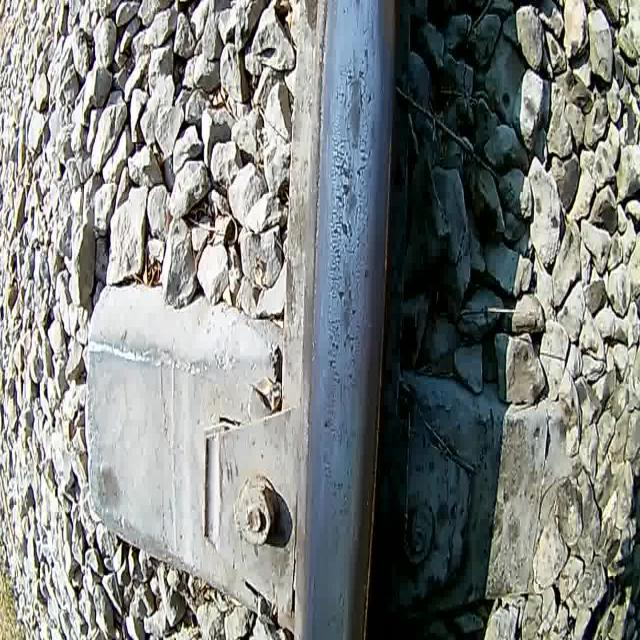Cracks: (355, 41, 372, 116)
Spallings: (333, 155, 354, 242)
Squats: (324, 254, 373, 403), (328, 150, 372, 256), (334, 45, 376, 153)
